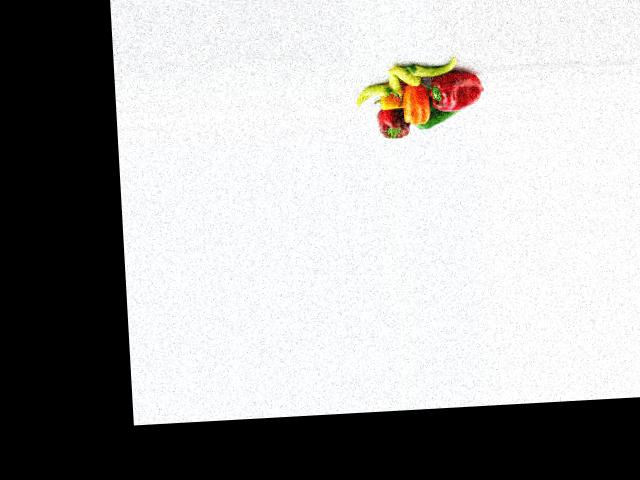bell_pepper: (401, 57, 461, 77)
